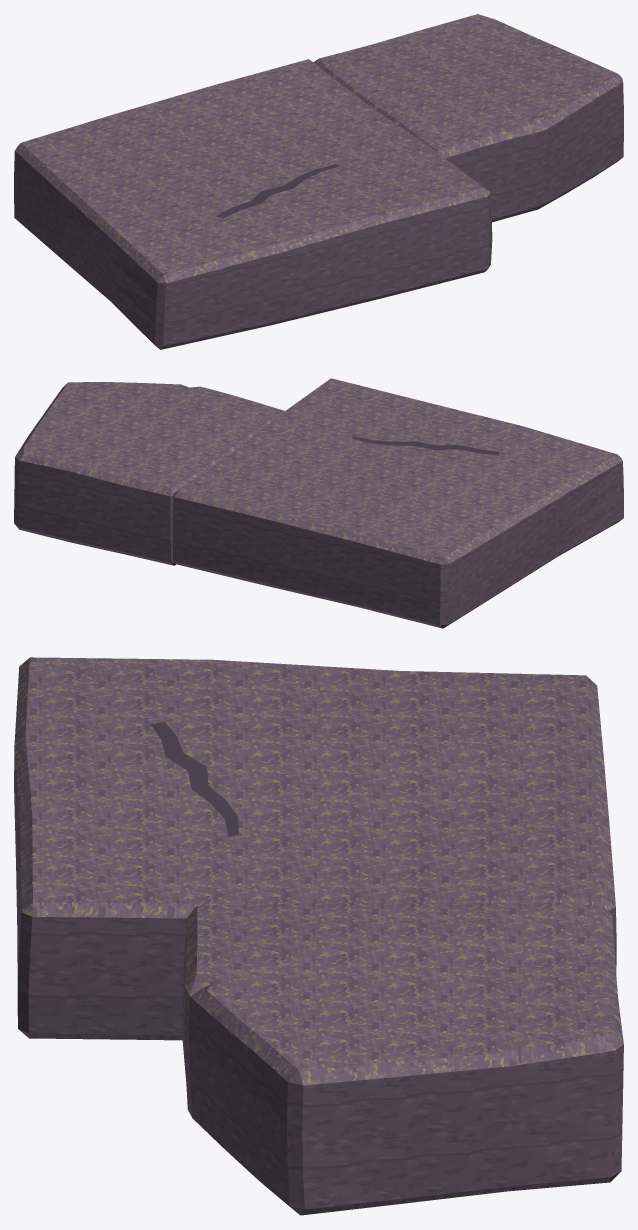
Rendered from A06_Slab_B.fbx.
3 views of the same model, one above another, from view 1: azimuth 30°, elevation 25°; view 2: azimuth 150°, elevation 25°; view 3: azimuth 270°, elevation 25° (orthographic). The views are drawn at different scales.
Parts seen in each view (by area): view 1: A06B_a, A06B_b, A06B_a_crack; view 2: A06B_a, A06B_b, A06B_a_crack; view 3: A06B_a, A06B_b, A06B_a_crack.
Part boxes in pixels (bbox=[...]): A06B_a: bbox=[14, 59, 492, 349]; A06B_b: bbox=[313, 14, 623, 222]; A06B_a_crack: bbox=[216, 164, 340, 218]; A06B_a: bbox=[172, 378, 623, 628]; A06B_b: bbox=[14, 382, 284, 565]; A06B_a_crack: bbox=[352, 436, 498, 455]; A06B_a: bbox=[14, 657, 616, 1040]; A06B_b: bbox=[182, 902, 623, 1215]; A06B_a_crack: bbox=[151, 722, 238, 836].
Bounding box in the file's own units: 3.8 × 0.601 × 2.22.
